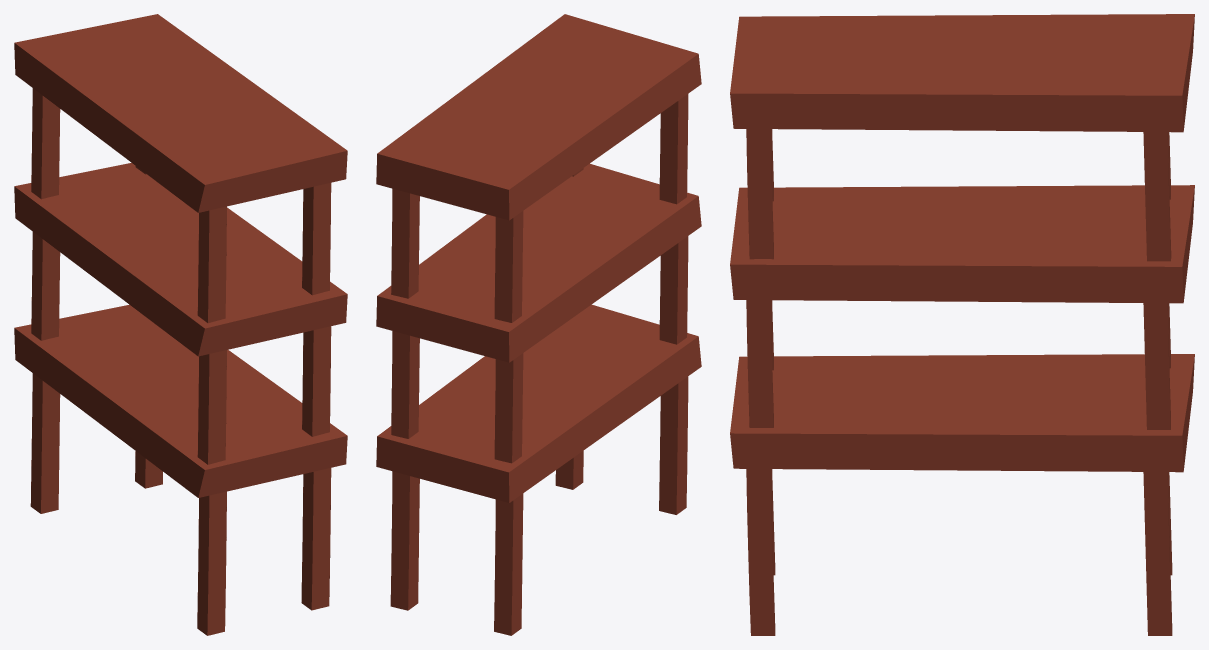
The model's file is shelf_3a.fbx.
3 views of the same model, side by side, from view 1: azimuth 30°, elevation 25°; view 2: azimuth 150°, elevation 25°; view 3: azimuth 270°, elevation 25° (orthographic). The views are drawn at different scales.
Visible parts, largest first — view 1: shelf_3a; view 2: shelf_3a; view 3: shelf_3a.
Part boxes in pixels (left/top/right/bottom): shelf_3a: left=14, top=14, right=347, bottom=635; shelf_3a: left=376, top=14, right=701, bottom=635; shelf_3a: left=730, top=14, right=1194, bottom=635.
Size of the model in its own units: 61.52 by 188 by 144.
